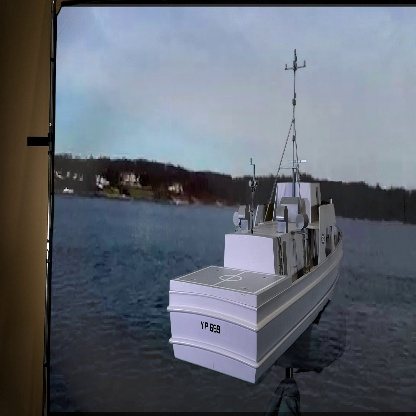YP689: (167, 44, 346, 386)
